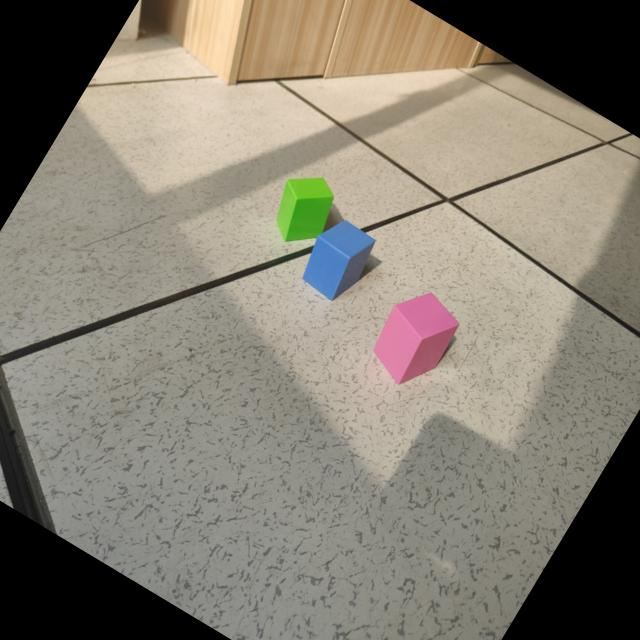blue: (301, 220, 376, 303)
green: (274, 173, 334, 242)
pink: (372, 295, 458, 387)
